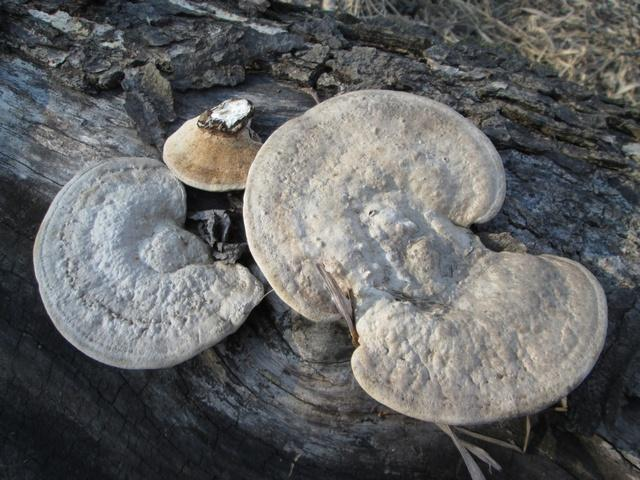Non-edible Mushroom: (229, 66, 620, 427), (31, 154, 266, 370), (161, 95, 263, 193)
